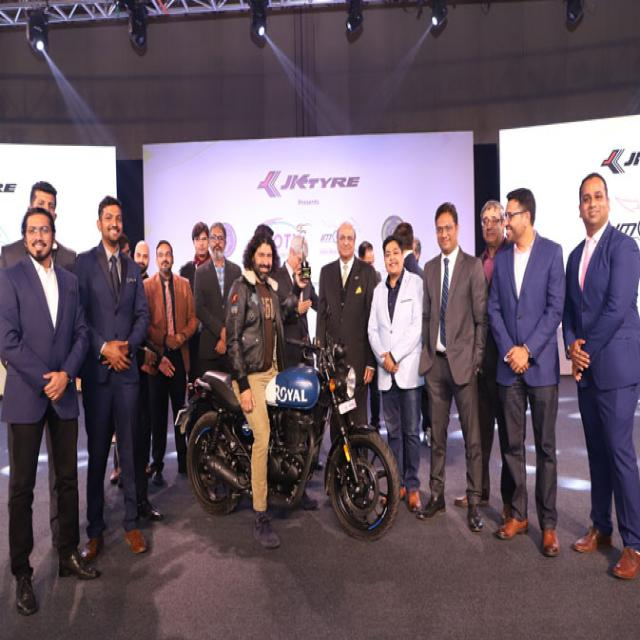motorcycle: (176, 231, 400, 547)
